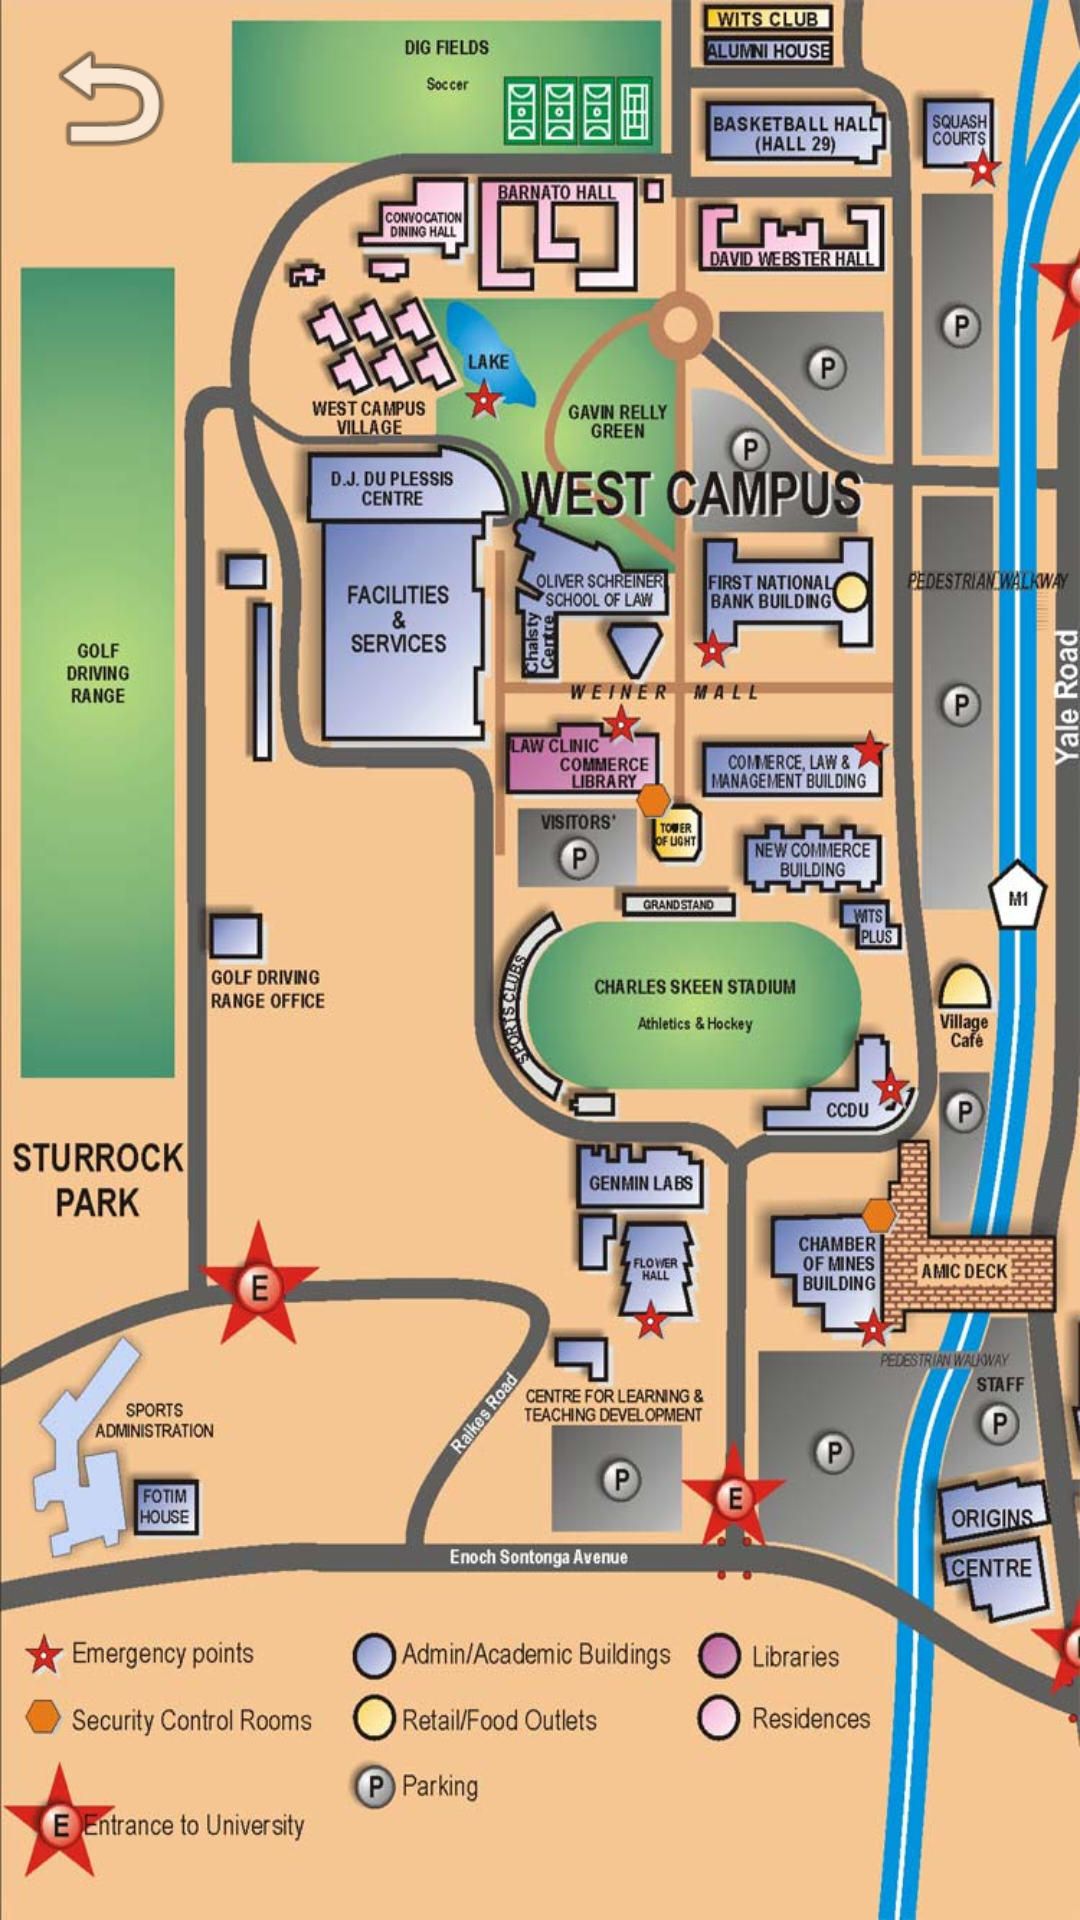

Named icons in this screenshot (1080x1920) and their centers, (x=x, y=y):
revert: (x=111, y=98)
